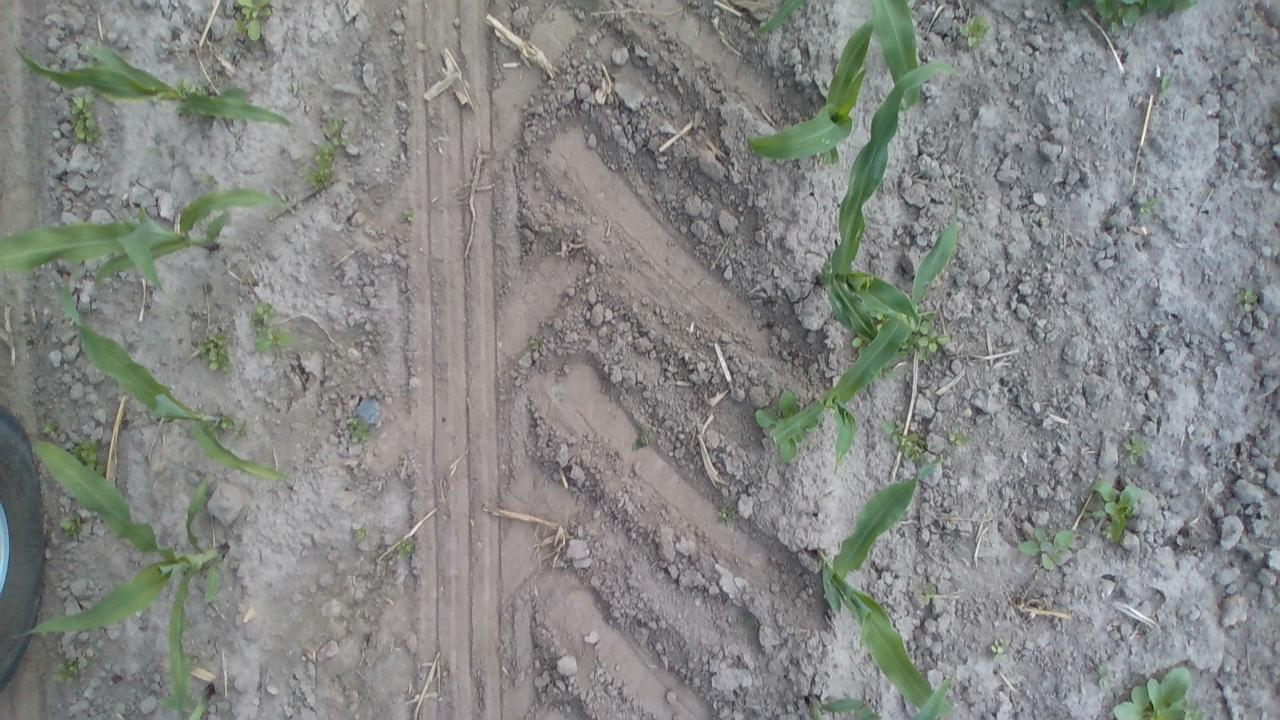Maize: (3, 437, 235, 708), (768, 187, 962, 480), (53, 270, 290, 488), (811, 59, 958, 342), (816, 451, 953, 720), (0, 190, 297, 302), (12, 37, 296, 129), (744, 15, 870, 176), (864, 0, 920, 110), (806, 690, 884, 720), (155, 684, 217, 720), (910, 673, 954, 720), (754, 0, 806, 38)
Weeds: (1109, 662, 1209, 720), (1060, 0, 1201, 38), (756, 386, 820, 460), (1084, 475, 1138, 545), (1014, 524, 1078, 572), (882, 420, 928, 466), (307, 140, 342, 194), (68, 92, 101, 148), (200, 328, 238, 374), (231, 0, 271, 43), (1120, 426, 1154, 468), (918, 320, 948, 362), (956, 11, 990, 48), (69, 434, 103, 468), (255, 326, 295, 352), (49, 657, 80, 690), (250, 300, 284, 326), (322, 116, 351, 146), (55, 510, 82, 539), (346, 412, 369, 442), (1234, 282, 1262, 306), (628, 424, 650, 452), (176, 77, 206, 93), (1136, 194, 1158, 215), (396, 535, 416, 558), (716, 503, 734, 528), (398, 206, 417, 229), (922, 584, 941, 607), (946, 428, 970, 446), (1158, 74, 1178, 94), (1098, 662, 1114, 686), (988, 636, 1007, 654), (354, 521, 369, 540), (42, 420, 59, 436), (851, 335, 865, 350), (528, 337, 540, 354), (222, 45, 235, 59), (237, 418, 248, 434), (220, 415, 230, 430)
